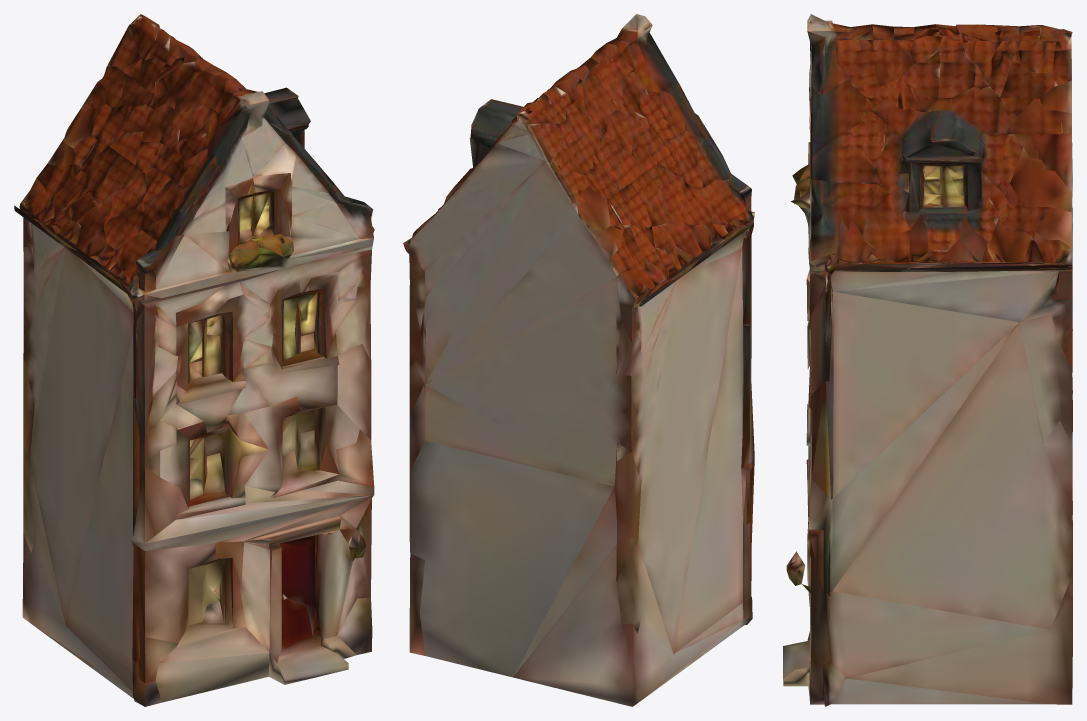
File: getkong-haus11.glb
The picture shows the model from 3 angles, left to right: view 1: azimuth 30°, elevation 25°; view 2: azimuth 150°, elevation 25°; view 3: azimuth 270°, elevation 25°; orthographic projection. The views are drawn at different scales.
Visible parts, largest first — view 1: output_unwrapped; view 2: output_unwrapped; view 3: output_unwrapped.
Boxes of the visible parts, x1,y1,x2,y2 form: output_unwrapped: (14,14,374,706); output_unwrapped: (403,14,754,706); output_unwrapped: (783,14,1072,706).
Size of the model in its own units: 0.8351 by 1.9 by 0.7942.
1 material, 1 textured.
